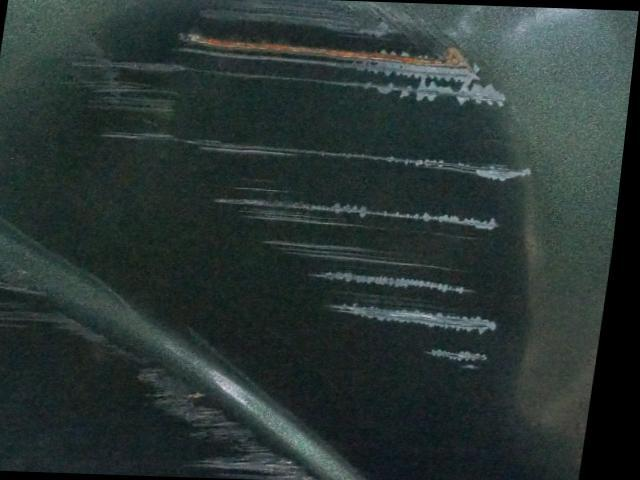rub: (73, 0, 552, 378), (0, 248, 332, 480)
